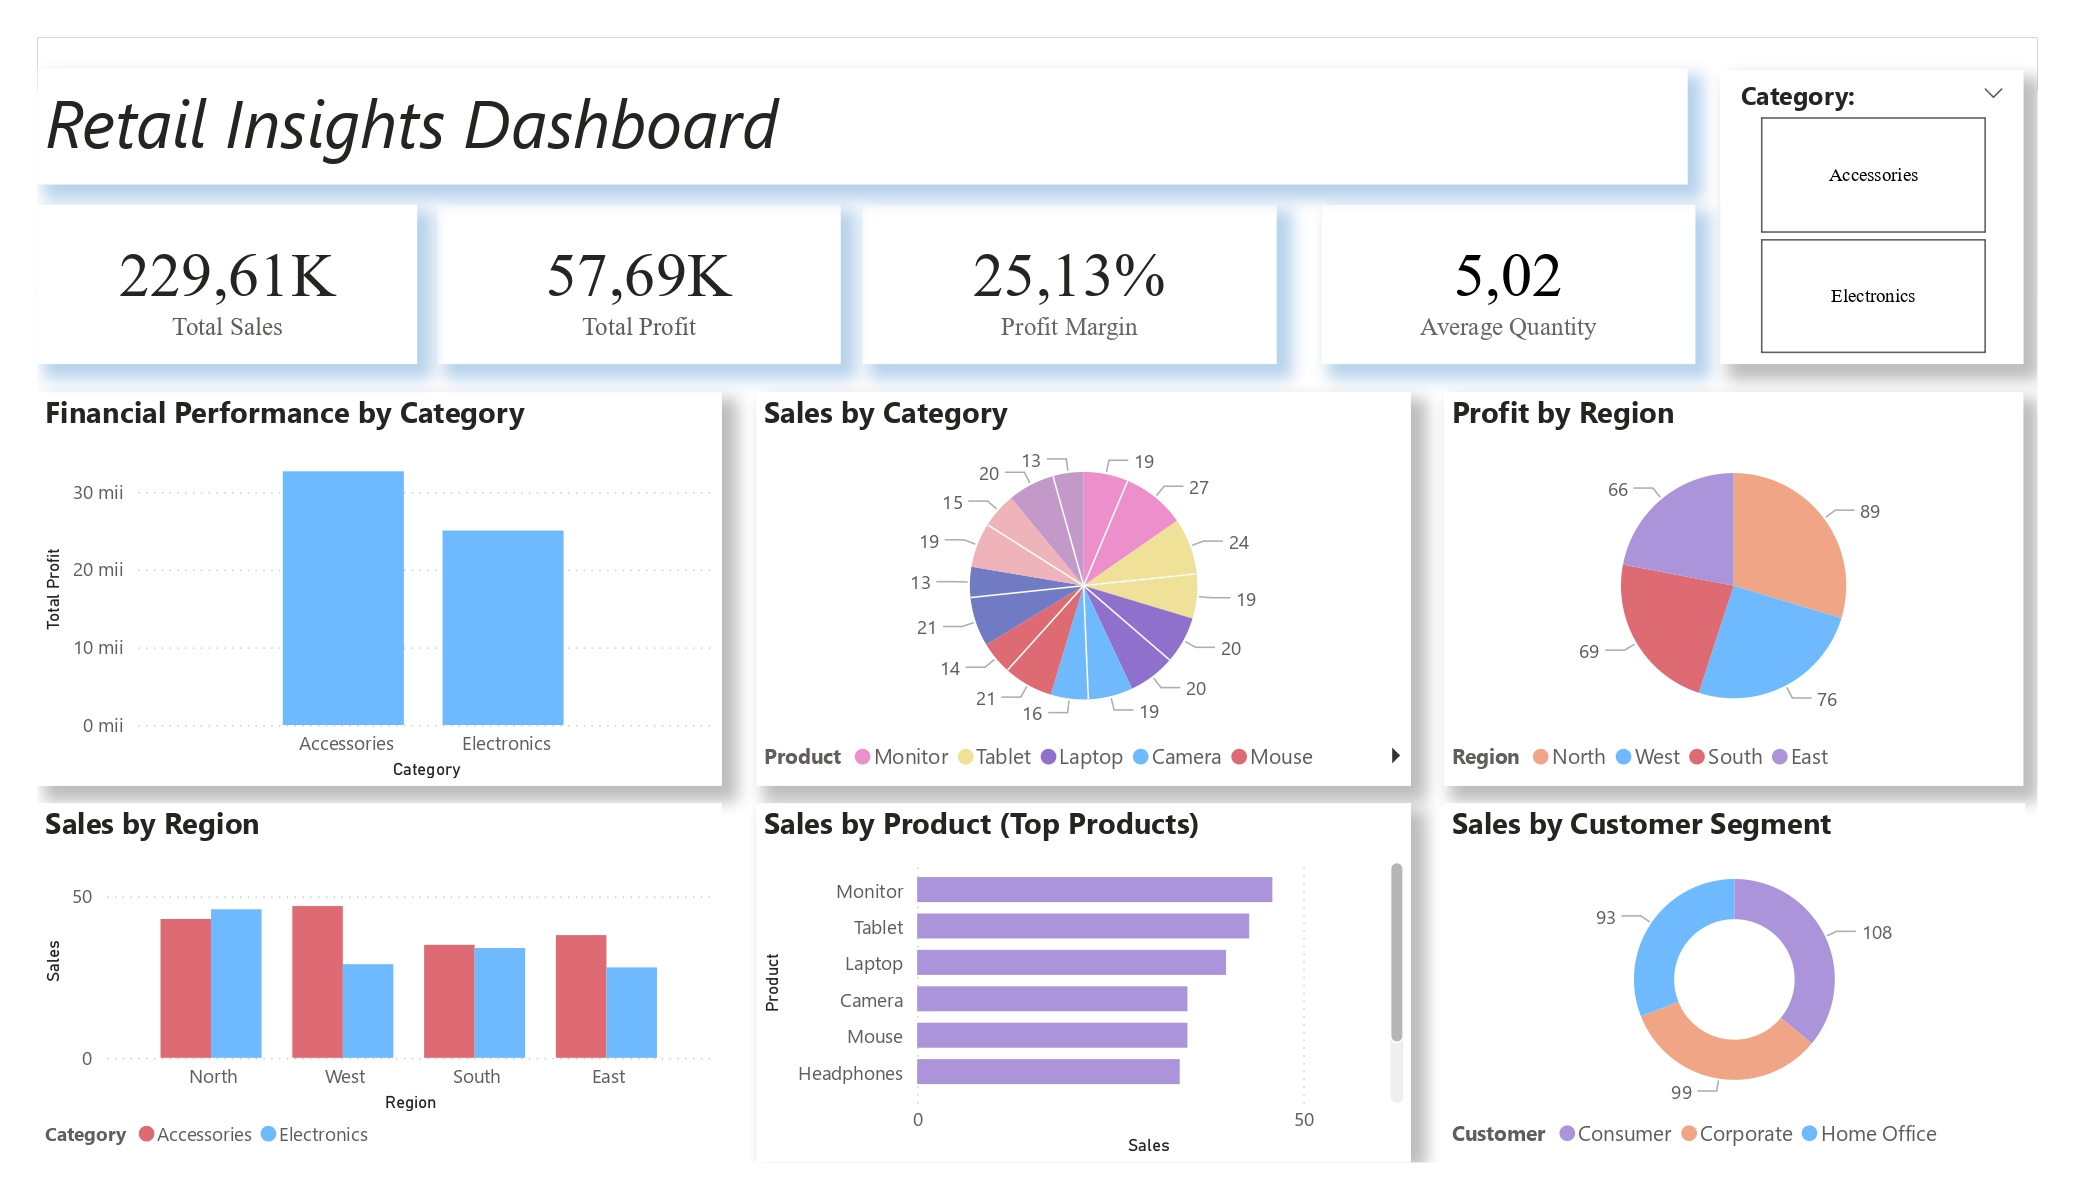

The page's visual inventory and layout, read from the dashboard file:
{"tool":"powerbi","page":{"name":"Pagina 1","canvas":[1280,720],"ordinal":0},"visuals":[{"type":"card","fields":{"Values":["Sum(Retail_Sales.Sales)"]},"box":[0,106.6,233.7,102.7],"z":0},{"type":"card","fields":{"Values":["Sum(Retail_Sales.Profit)"]},"box":[256.2,106.6,258.2,102.7],"z":1000},{"type":"card","fields":{"Values":["Retail_Sales.Profit Margin (%)"]},"box":[528,106.6,265,102.7],"z":2000},{"type":"textbox","box":[0,20.4,1056.3,73.9],"z":3000},{"type":"slicer","fields":{"Values":["Retail_Sales.Category"]},"box":[1076.6,20.5,194.6,188.7],"z":4000},{"type":"clusteredColumnChart","title":"Financial Performance by Category","fields":{"Y":["Sum(Retail_Sales.Profit)"],"Category":["Retail_Sales.Category"]},"box":[0,226.9,438.1,252.3],"z":5000},{"type":"card","fields":{"Values":["Avg(Retail_Sales.Quantity)"]},"box":[822.4,106.6,238.6,102.7],"z":6000},{"type":"pieChart","title":"Sales by Category","fields":{"Category":["Retail_Sales.Product"],"Y":["CountNonNull(Retail_Sales.Profit)"],"Series":["Retail_Sales.Category"]},"box":[459.6,226.9,419.5,252.3],"z":7000},{"type":"pieChart","title":"Profit by Region","fields":{"Category":["Retail_Sales.Region"],"Y":["CountNonNull(Retail_Sales.Profit)"]},"box":[899.6,226.9,371.6,252.3],"z":8000},{"type":"clusteredColumnChart","title":"Sales by Region","fields":{"Category":["Retail_Sales.Region"],"Series":["Retail_Sales.Category"],"Y":["CountNonNull(Retail_Sales.Sales)"]},"box":[0,489.9,438.1,229.8],"z":9000},{"type":"clusteredBarChart","title":"Sales by Product (Top Products)","fields":{"Category":["Retail_Sales.Product"],"Y":["CountNonNull(Retail_Sales.Sales)"]},"box":[459.6,489.9,419.5,229.8],"z":9001},{"type":"donutChart","title":"Sales by Customer Segment","fields":{"Category":["Retail_Sales.Customer_Segment"],"Y":["CountNonNull(Retail_Sales.Sales)"]},"box":[899.6,489.9,372.6,229.8],"z":9002}]}

Visuals, with their boxes in screenshot pixels (x1, y1, x2, y2):
card - Sum(Retail_Sales.Sales): {"x1": 38, "y1": 204, "x2": 403, "y2": 365}
card - Sum(Retail_Sales.Profit): {"x1": 438, "y1": 204, "x2": 841, "y2": 365}
card - Retail_Sales.Profit Margin (%): {"x1": 862, "y1": 204, "x2": 1277, "y2": 365}
textbox: {"x1": 38, "y1": 69, "x2": 1688, "y2": 185}
slicer - Retail_Sales.Category: {"x1": 1720, "y1": 70, "x2": 2024, "y2": 364}
"Financial Performance by Category" clusteredColumnChart: {"x1": 38, "y1": 392, "x2": 722, "y2": 786}
card - Avg(Retail_Sales.Quantity): {"x1": 1322, "y1": 204, "x2": 1695, "y2": 365}
"Sales by Category" pieChart: {"x1": 756, "y1": 392, "x2": 1411, "y2": 786}
"Profit by Region" pieChart: {"x1": 1443, "y1": 392, "x2": 2024, "y2": 786}
"Sales by Region" clusteredColumnChart: {"x1": 38, "y1": 803, "x2": 722, "y2": 1162}
"Sales by Product (Top Products)" clusteredBarChart: {"x1": 756, "y1": 803, "x2": 1411, "y2": 1162}
"Sales by Customer Segment" donutChart: {"x1": 1443, "y1": 803, "x2": 2025, "y2": 1162}
